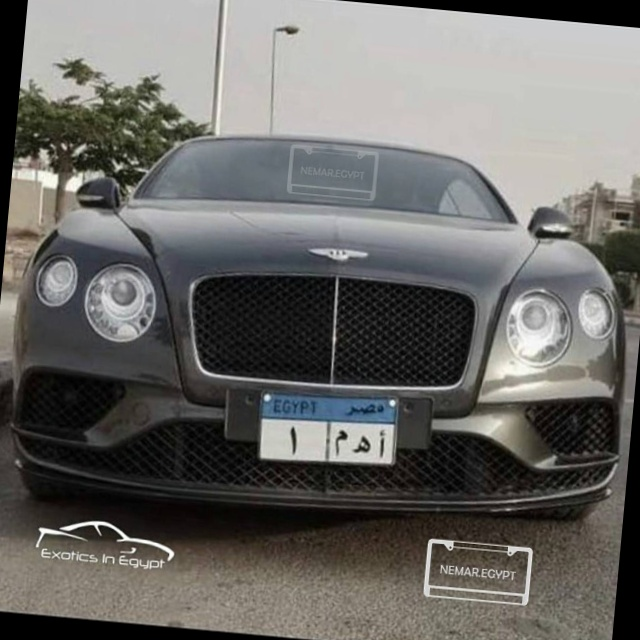License Plate: (249, 381, 406, 475)
